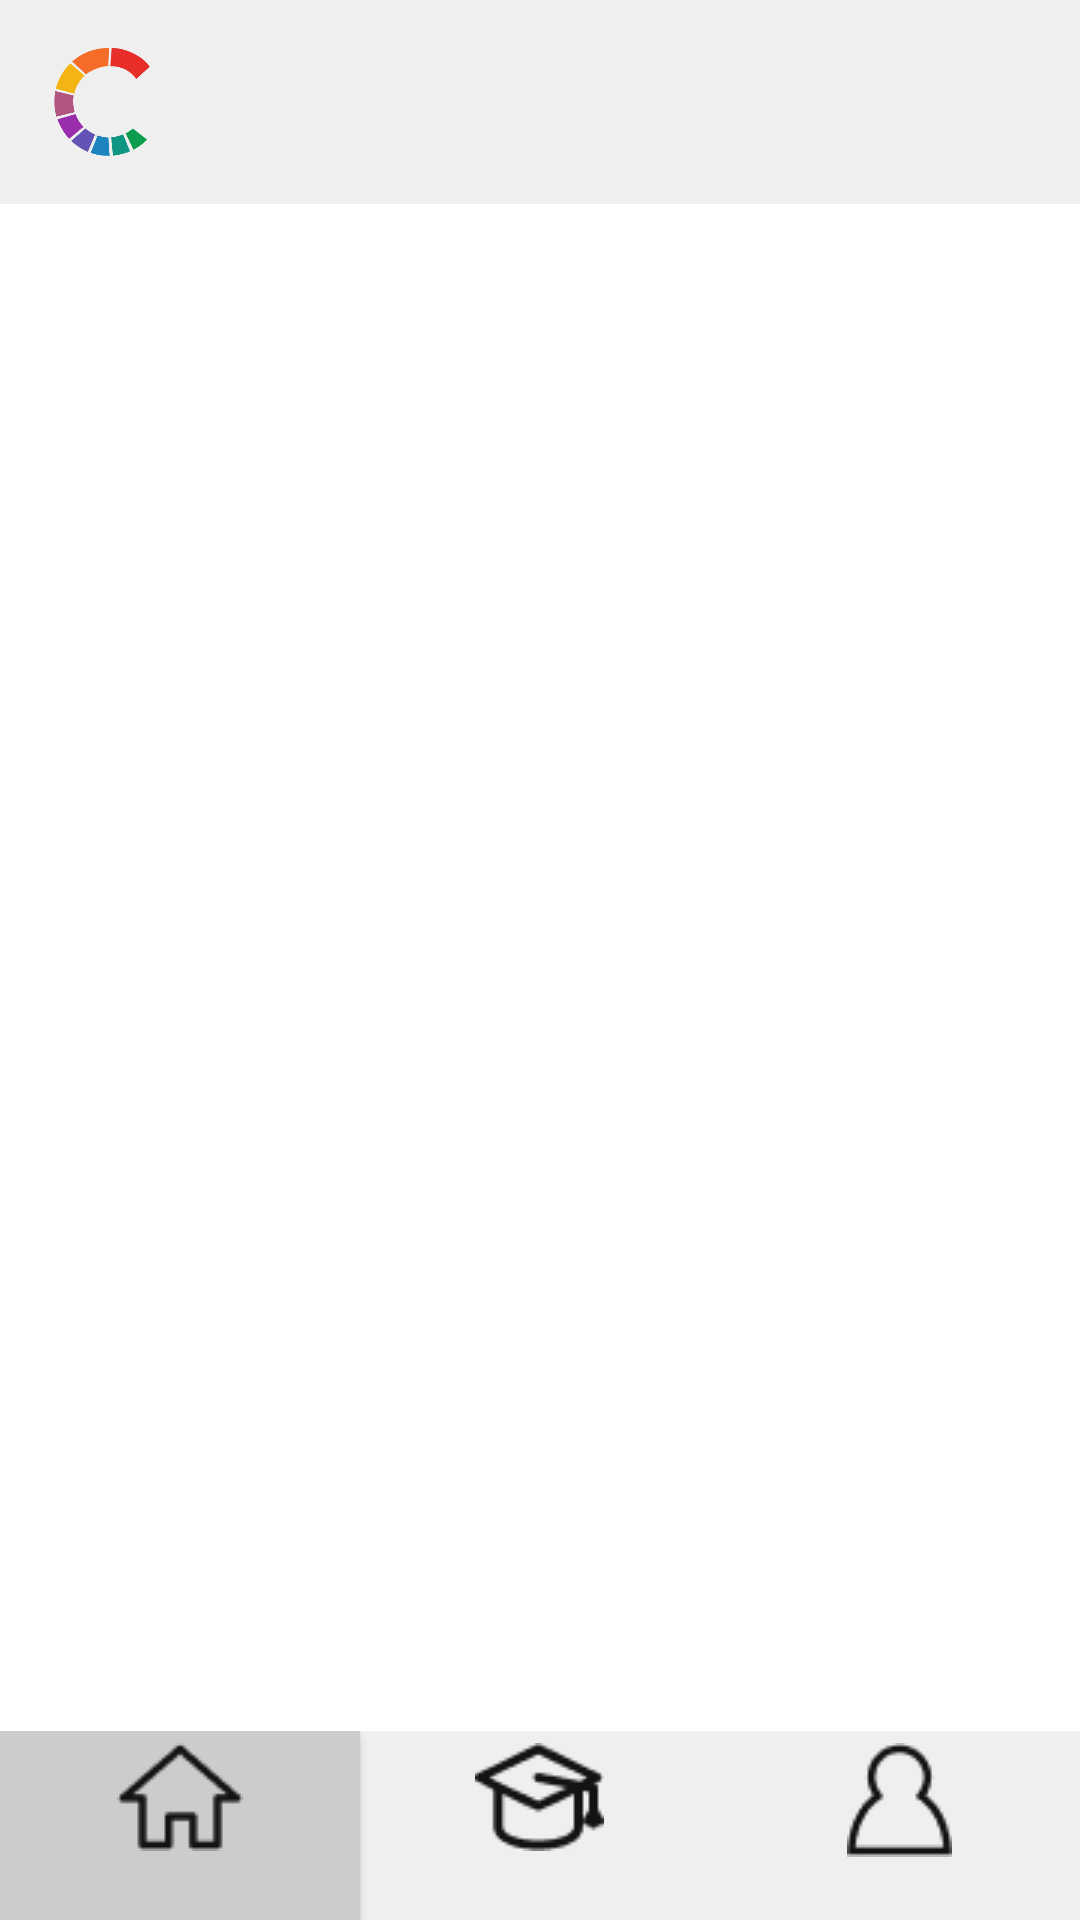

Screen size 1080x1920. Icon name, then its center in pixels as [x,y]:
tab: [180,1825]
